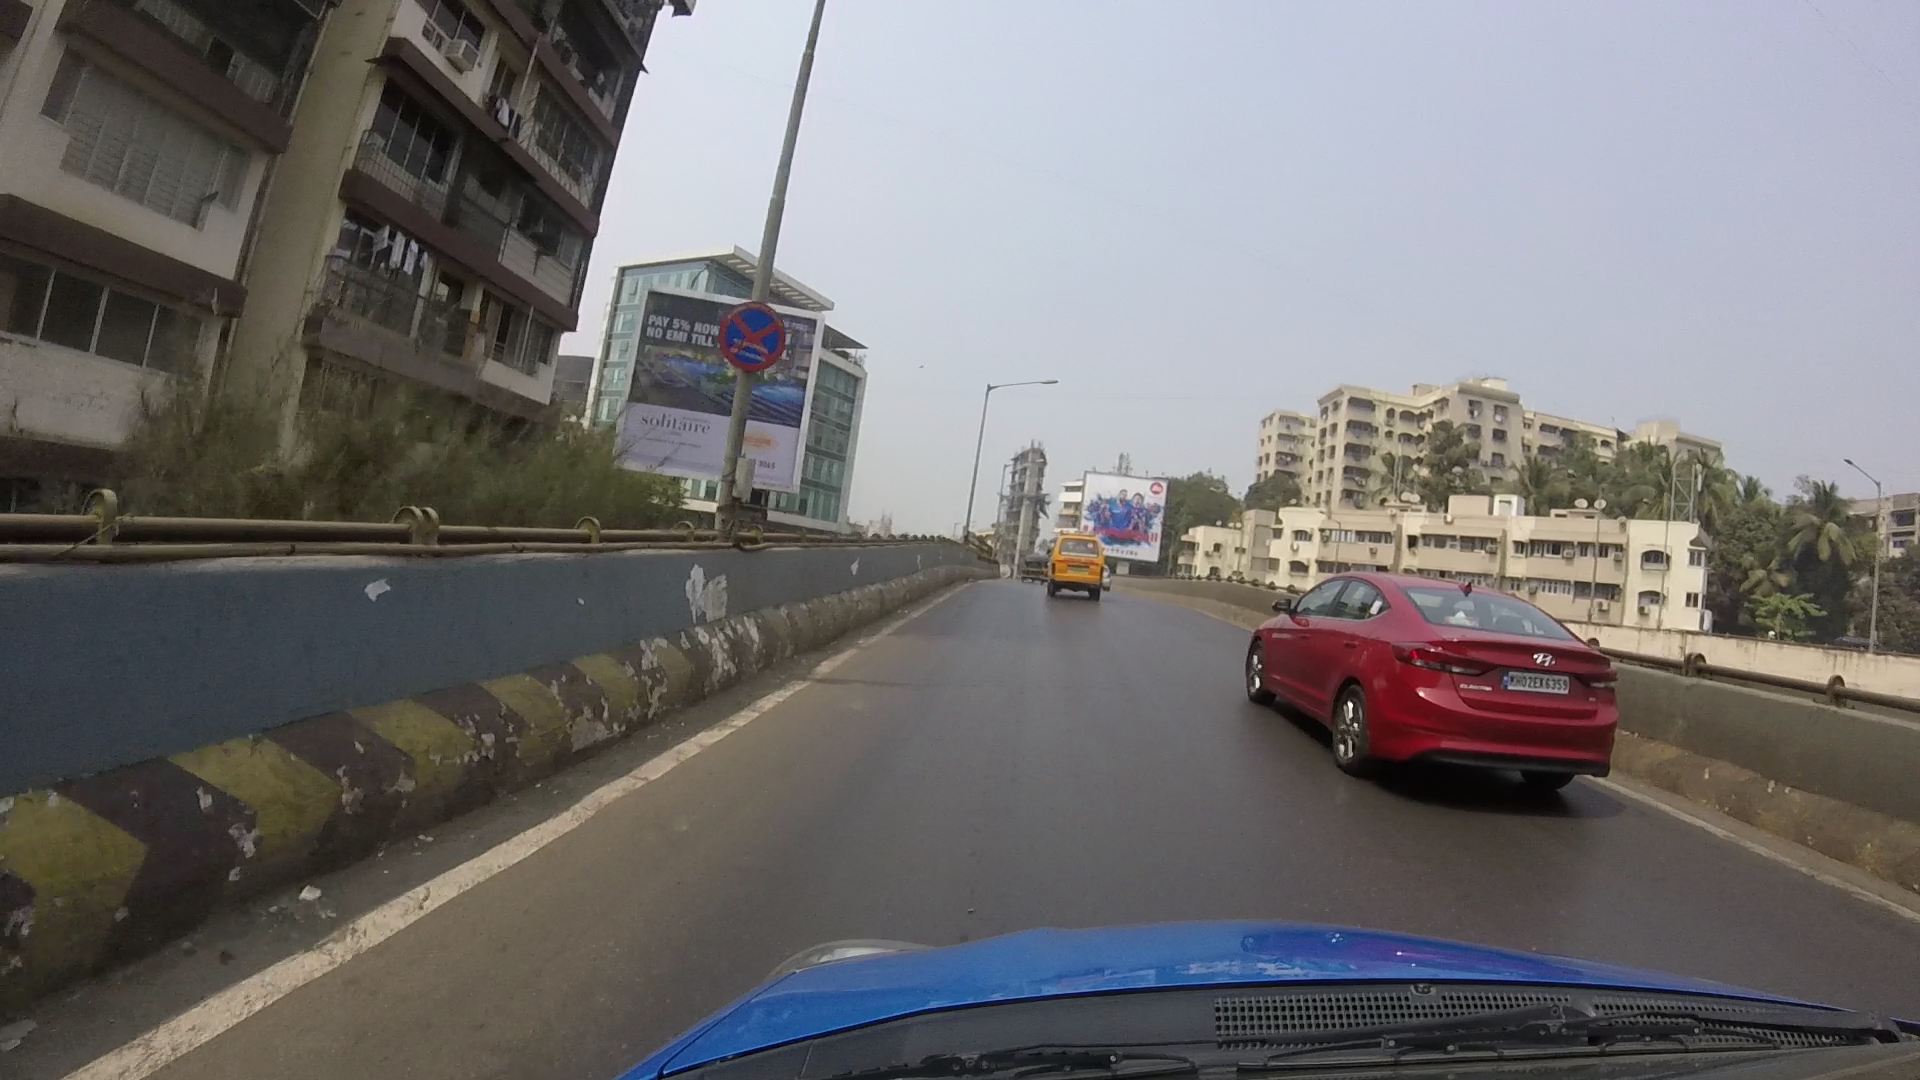car: (1224, 520, 1642, 814), (1021, 481, 1139, 625)
